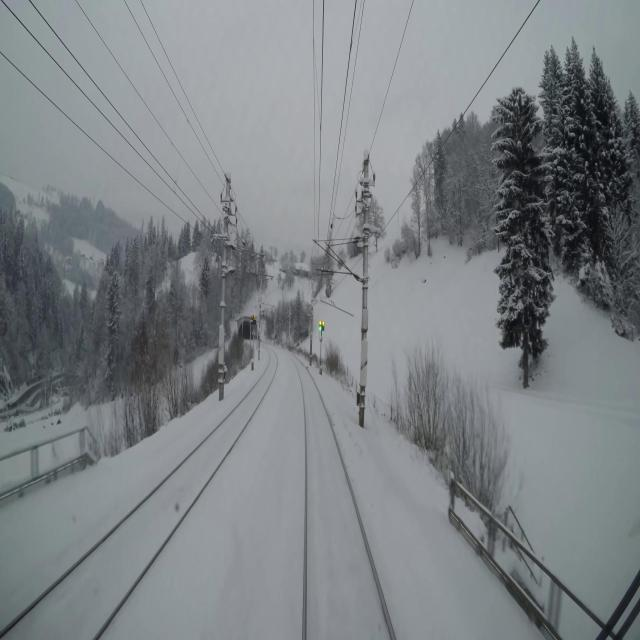rail-track: (1, 352, 275, 639), (296, 361, 391, 639)
